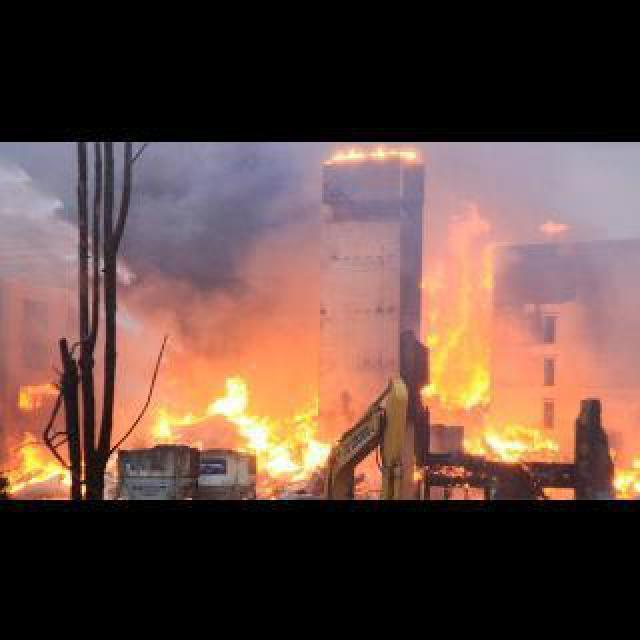Fire: (156, 376, 344, 490), (10, 426, 72, 478), (312, 144, 428, 164), (14, 370, 68, 410)
